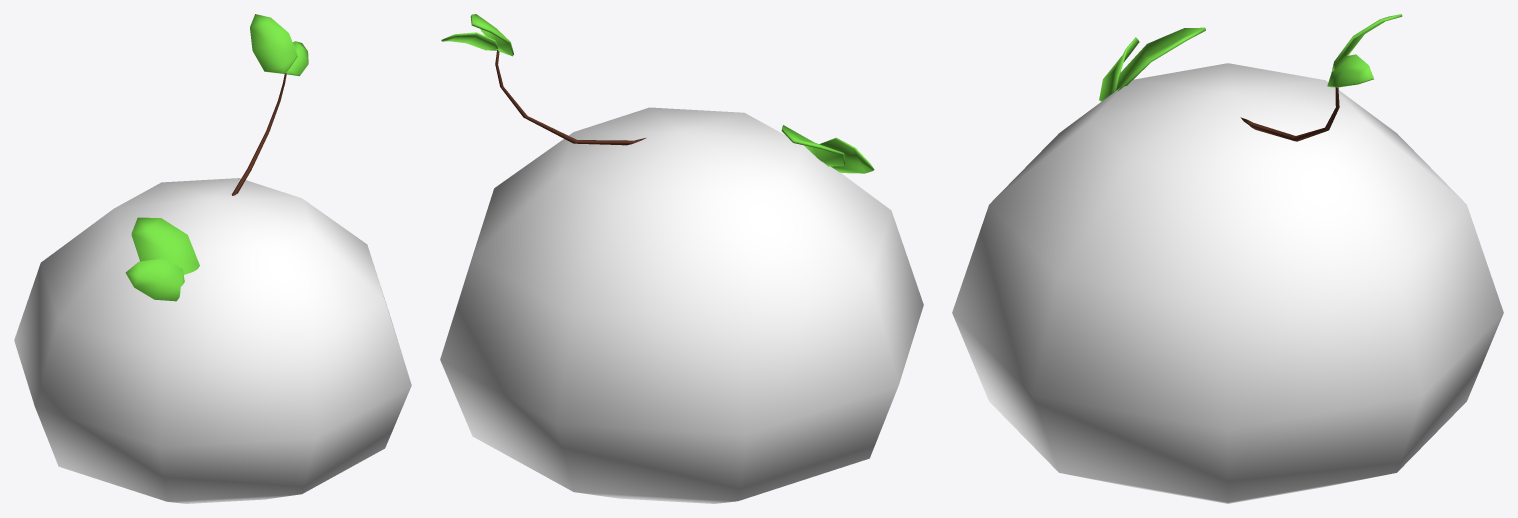
File: green slime.fbx
3 views of the same model, side by side, from view 1: azimuth 30°, elevation 25°; view 2: azimuth 150°, elevation 25°; view 3: azimuth 270°, elevation 25° (orthographic). The views are drawn at different scales.
Parts seen in each view (by area): view 1: green slime; view 2: green slime; view 3: green slime.
Part boxes in pixels (bbox=[...]): green slime: bbox=[14, 14, 411, 503]; green slime: bbox=[440, 14, 923, 503]; green slime: bbox=[952, 14, 1503, 503].
Size of the model in its own units: 220 by 224 by 220.
